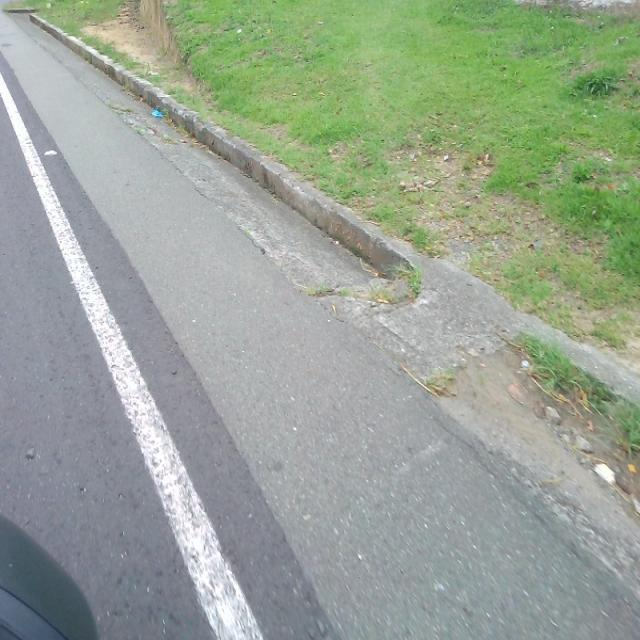DITCH: (1, 3, 639, 637), (2, 3, 638, 638), (71, 2, 638, 637)
